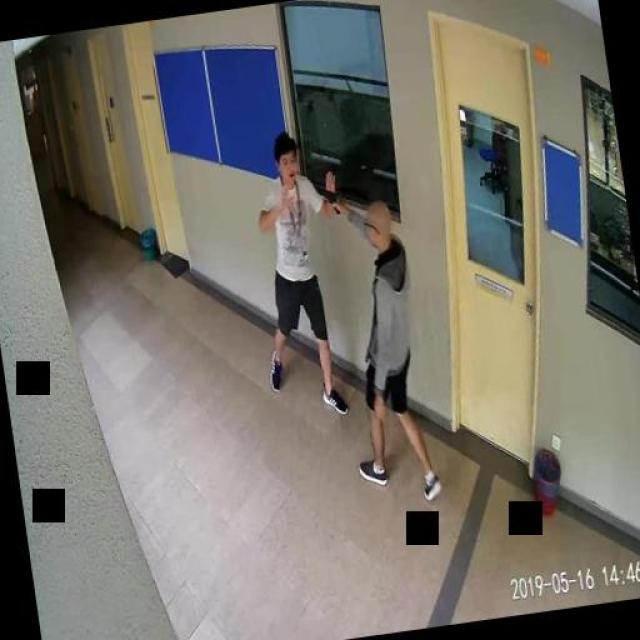gun: (314, 182, 338, 216)
